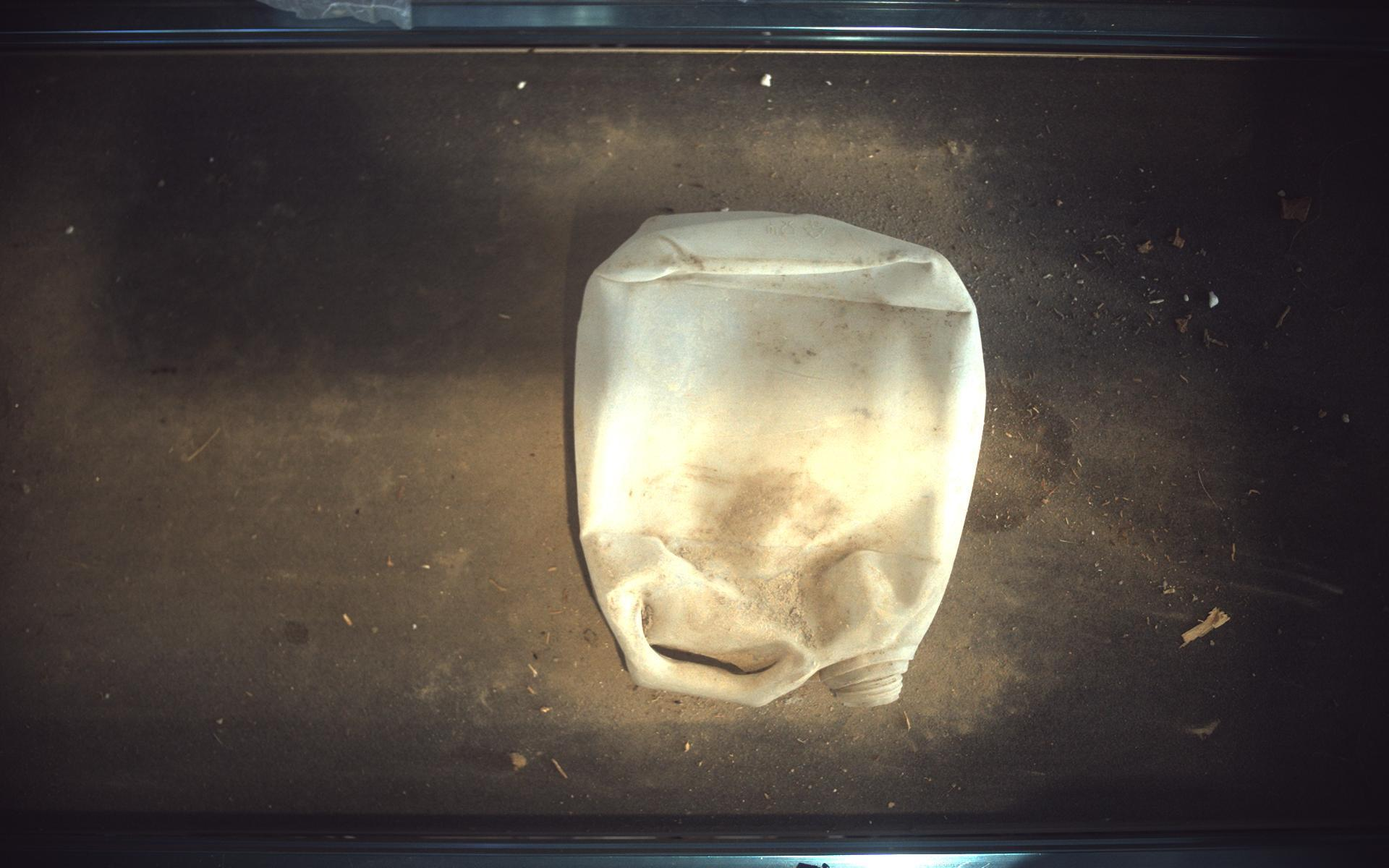general_w: (574, 210, 988, 707)
